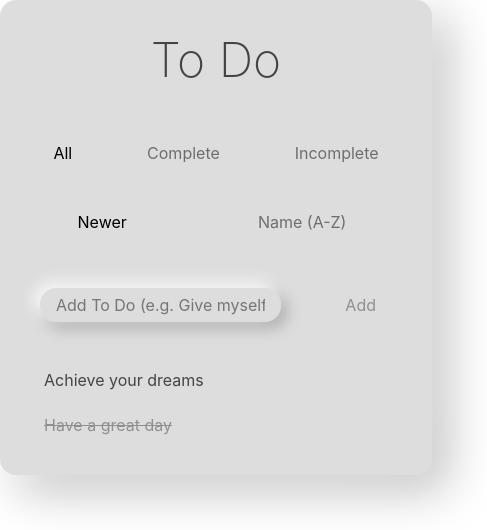
Test case: can view all complete To Dos
Click the button named "Filter by Complete": point(183, 153) 141,143 -> 226,164
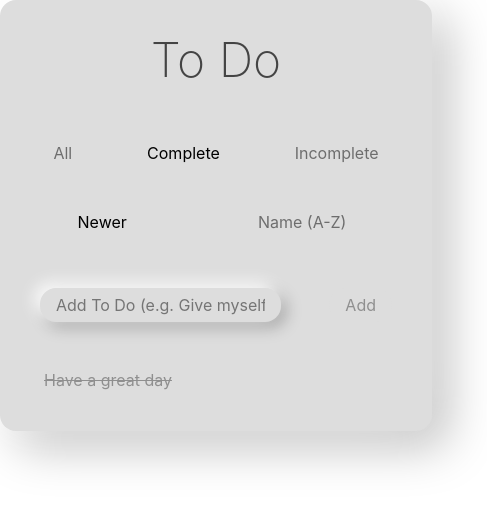
Expected: the text "Achieve your dreams" is gone
